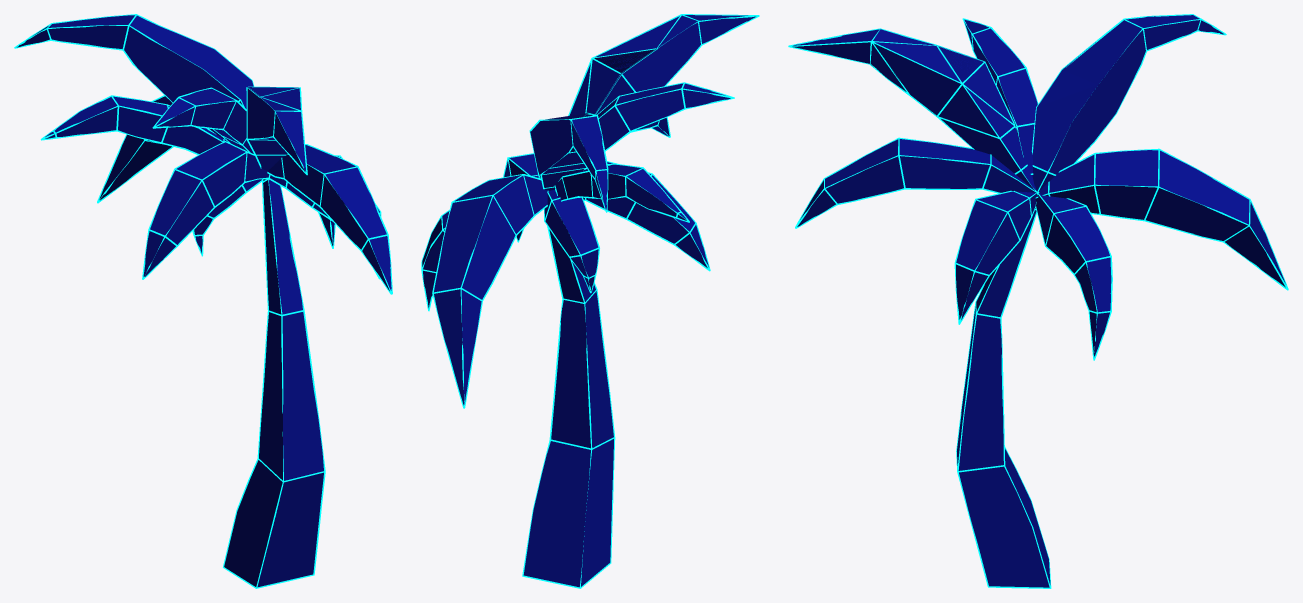
The model's file is Palmier2.fbx.
The picture shows the model from 3 angles, left to right: view 1: azimuth 30°, elevation 25°; view 2: azimuth 150°, elevation 25°; view 3: azimuth 270°, elevation 25°; orthographic projection. The views are drawn at different scales.
Visible parts, largest first — view 1: Palmier, PalmierWireFrame; view 2: Palmier, PalmierWireFrame; view 3: Palmier, PalmierWireFrame.
Boxes of the visible parts, x1,y1,x2,y2 form: Palmier: (17, 15, 391, 587); PalmierWireFrame: (14, 14, 392, 588); Palmier: (422, 15, 755, 587); PalmierWireFrame: (421, 14, 759, 588); Palmier: (792, 15, 1285, 587); PalmierWireFrame: (788, 14, 1288, 588).
Size of the model in its own units: 156 by 275 by 242.
